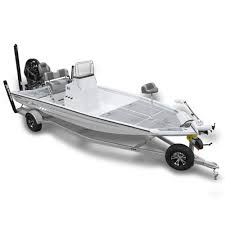boat: (6, 42, 219, 184)
